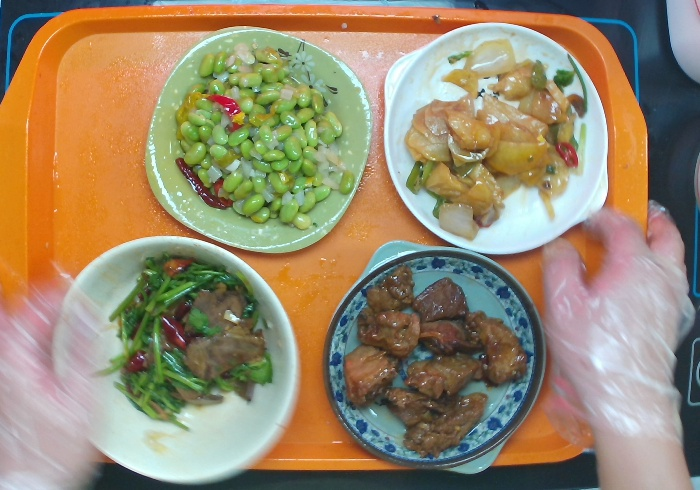NLDX-Bai_Se_Shuang_Er_Die: (383, 24, 610, 253)
NLDX-Bai_Se_Yuan_Wan: (55, 236, 299, 482)
NLDX-Lv_Hua_Fang_Die: (143, 27, 370, 253)
NLDX-Qing_Hua_Shuang_Er_Die: (321, 238, 549, 474)
